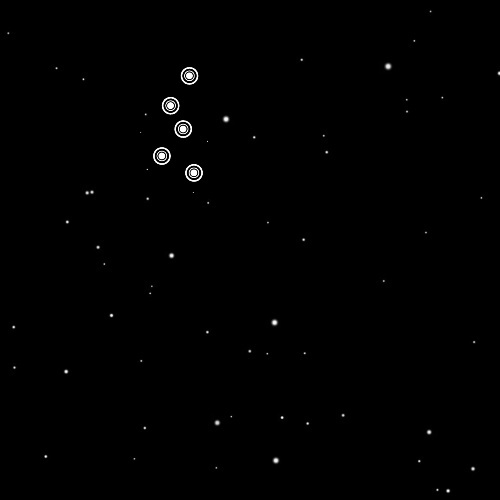cassiopeia: (144, 57, 212, 194)
